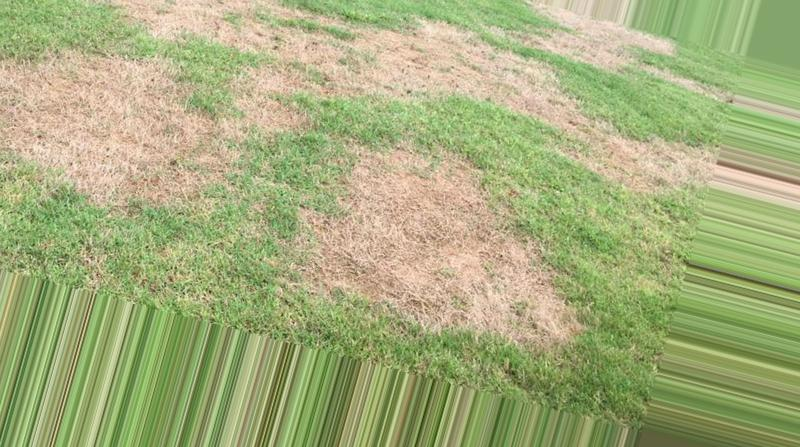patch: (332, 158, 519, 326), (24, 73, 179, 192), (144, 5, 333, 87), (370, 33, 530, 106), (558, 10, 635, 72), (597, 134, 677, 188)
